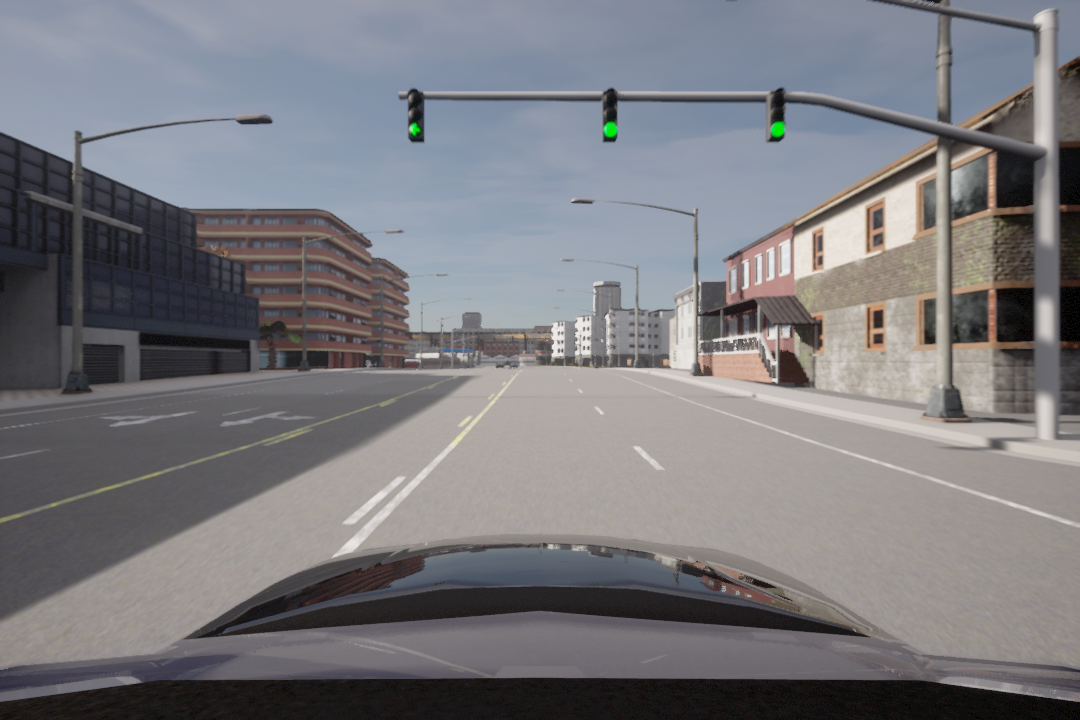RoadSign_forward_left: (217, 407, 316, 429)
RoadSign_forward_right: (97, 409, 201, 430)
TrafficLight: (404, 87, 429, 145), (600, 89, 624, 141), (764, 90, 786, 144)
